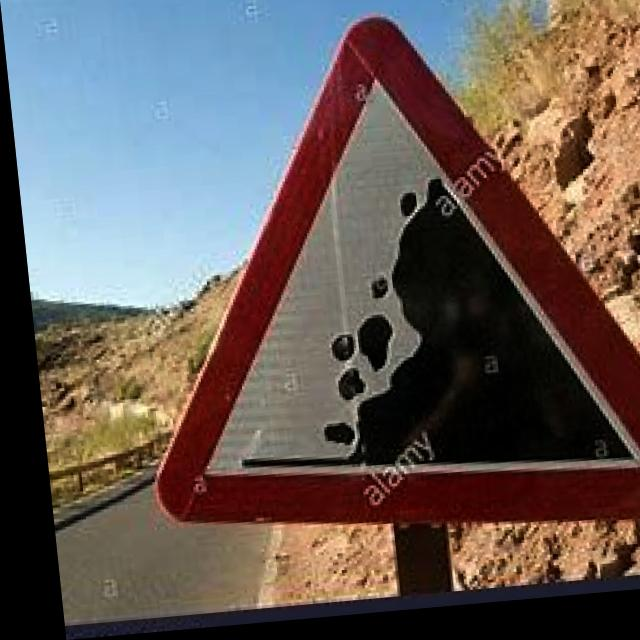FALLING_ROCKS: (118, 2, 640, 567)
